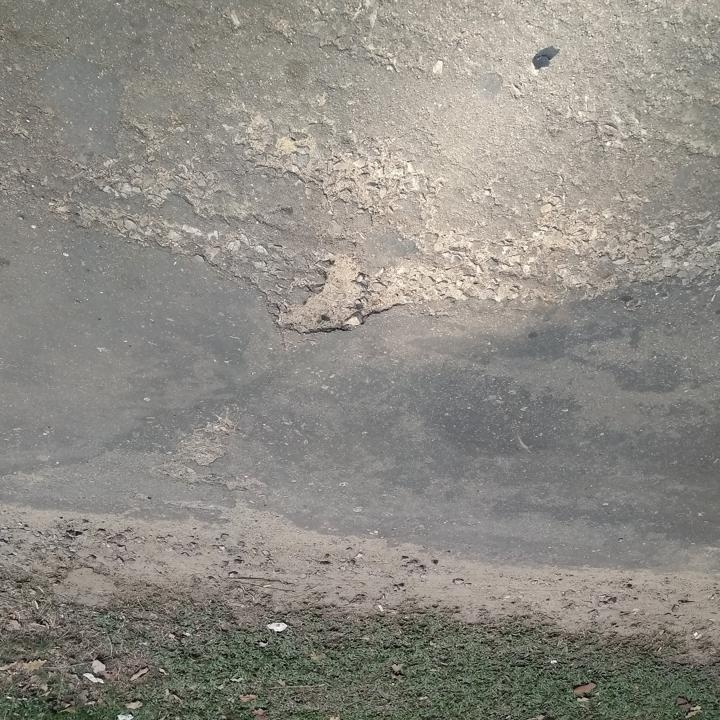pothole: (270, 248, 374, 337)
